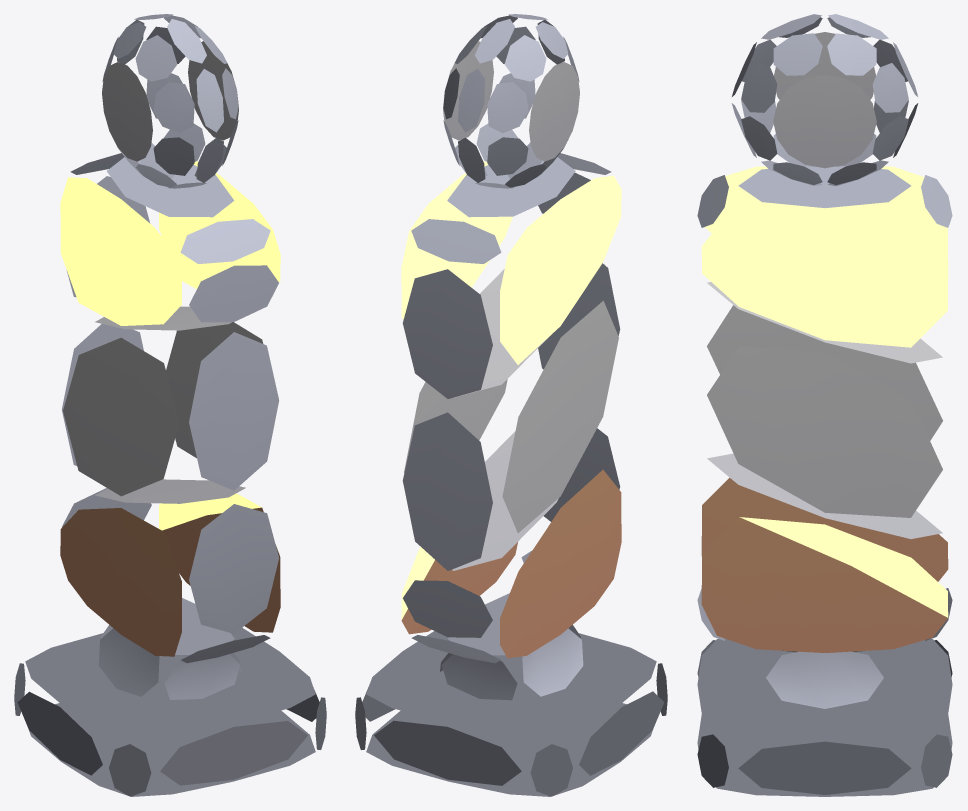
File: KFB_Lamp_spot.r1.glb
3 views of the same model, side by side, from view 1: azimuth 30°, elevation 25°; view 2: azimuth 150°, elevation 25°; view 3: azimuth 270°, elevation 25° (orthographic).
Visible parts, largest first — view 1: KFB_Lamp_spot; view 2: KFB_Lamp_spot; view 3: KFB_Lamp_spot.
Boxes of the visible parts, left/top/right/bottom form: KFB_Lamp_spot: left=14, top=14, right=326, bottom=796; KFB_Lamp_spot: left=355, top=14, right=667, bottom=796; KFB_Lamp_spot: left=697, top=14, right=952, bottom=796.
Bounding box in the file's own units: 0.3209 × 0.9986 × 0.3209.
